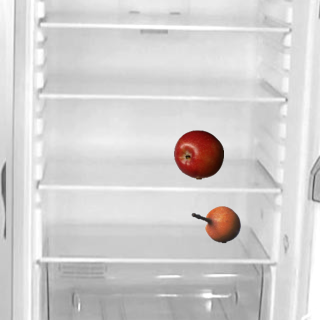Apple Braeburn: (173, 129, 223, 179)
Granadilla: (190, 199, 240, 249)
